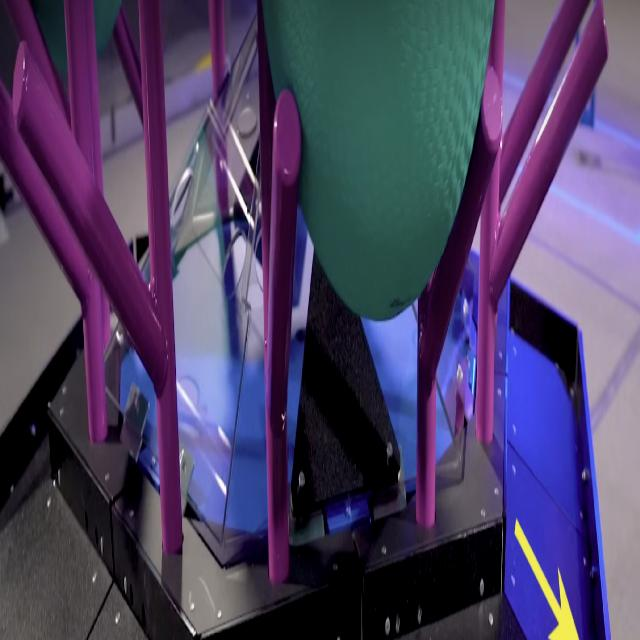Algae: (261, 1, 497, 322), (0, 0, 121, 110)
Reef: (12, 38, 166, 392), (490, 0, 607, 301), (425, 64, 502, 380), (0, 85, 91, 315), (495, 0, 590, 212), (267, 85, 303, 435), (113, 6, 143, 127)
